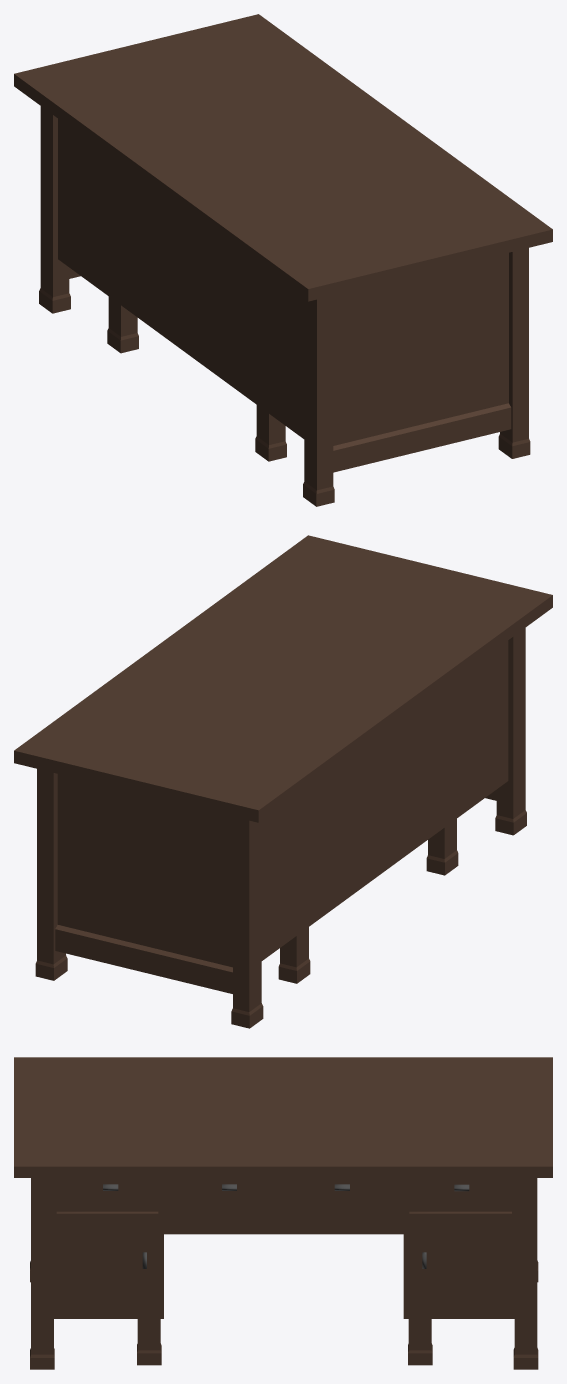
File: S_Desk.fbx
3 views of the same model, one above another, from view 1: azimuth 30°, elevation 25°; view 2: azimuth 150°, elevation 25°; view 3: azimuth 270°, elevation 25° (orthographic). The views are drawn at different scales.
Visible parts, largest first — view 1: S_Desk; view 2: S_Desk; view 3: S_Desk.
Part boxes in pixels (x1=…): S_Desk: x1=14, y1=14, x2=552, y2=506; S_Desk: x1=14, y1=535, x2=552, y2=1028; S_Desk: x1=14, y1=1057, x2=552, y2=1369.
Bounding box in the file's own units: 100 × 89.55 × 209.
